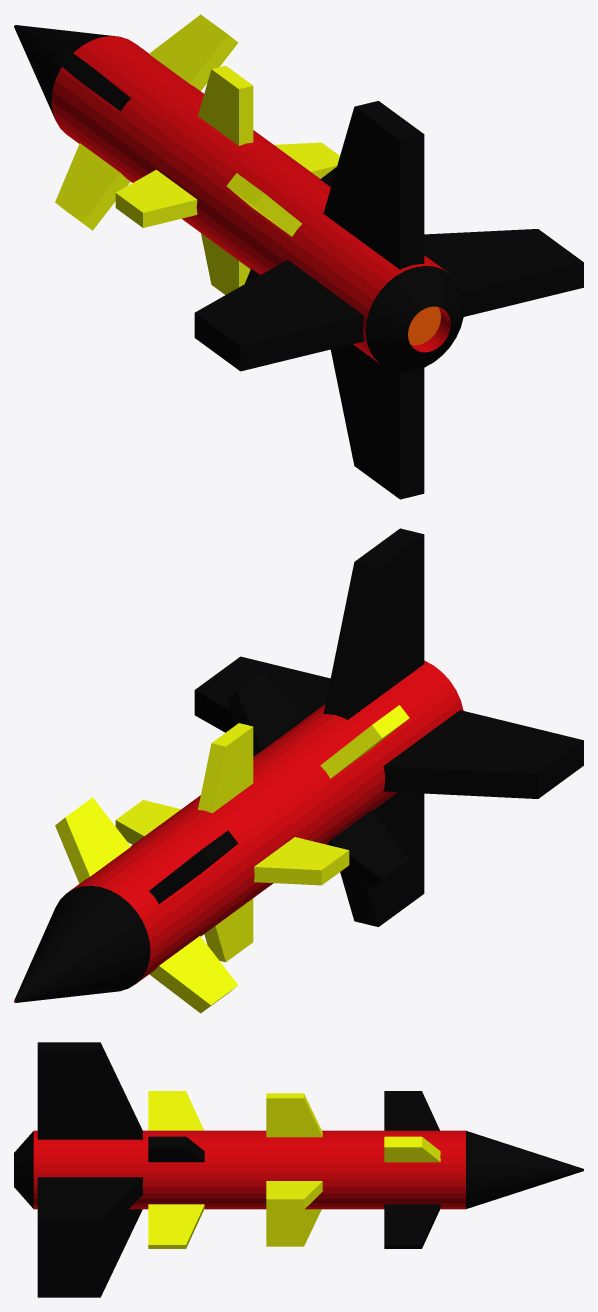
File: Homing_Missile.fbx
3 renders of one model, top to bottom at view 1: azimuth 30°, elevation 25°; view 2: azimuth 150°, elevation 25°; view 3: azimuth 270°, elevation 25°, orthographic. The views are drawn at different scales.
Visible parts, largest first — view 1: Cylinder, Cube, Cube.001, Cube.004, Cube.002, Cube.003, Cube.005, Cube.007; view 2: Cylinder, Cube, Cube.001, Cube.004, Cube.006, Cube.002, Cube.003, Cube.007, Cube.005; view 3: Cylinder, Cube, Cube.001, Cube.007, Cube.005, Cube.002, Cube.003, Cube.006, Cube.004.
Boxes of the visible parts, x1,y1,x2,y2 form: Cylinder: [14, 25, 464, 371]; Cube: [323, 101, 424, 499]; Cube.001: [194, 229, 583, 371]; Cube.004: [55, 14, 238, 230]; Cube.002: [198, 65, 253, 294]; Cube.003: [115, 142, 339, 227]; Cube.005: [55, 47, 130, 111]; Cube.007: [226, 173, 301, 236]; Cylinder: [14, 660, 463, 1002]; Cube: [323, 528, 424, 926]; Cube.001: [194, 656, 583, 798]; Cube.004: [55, 797, 238, 1013]; Cube.006: [226, 672, 409, 887]; Cube.002: [198, 723, 253, 962]; Cube.003: [115, 800, 349, 885]; Cube.007: [320, 705, 409, 778]; Cube.005: [149, 830, 238, 903]; Cylinder: [14, 1130, 583, 1209]; Cube: [37, 1042, 142, 1297]; Cube.001: [37, 1177, 143, 1236]; Cube.007: [148, 1091, 204, 1248]; Cube.005: [384, 1091, 440, 1248]; Cube.002: [266, 1093, 322, 1246]; Cube.003: [266, 1181, 322, 1209]; Cube.006: [148, 1136, 204, 1162]; Cube.004: [384, 1136, 440, 1162].
Bounding box in the file's own units: 694 × 694 × 1450.
